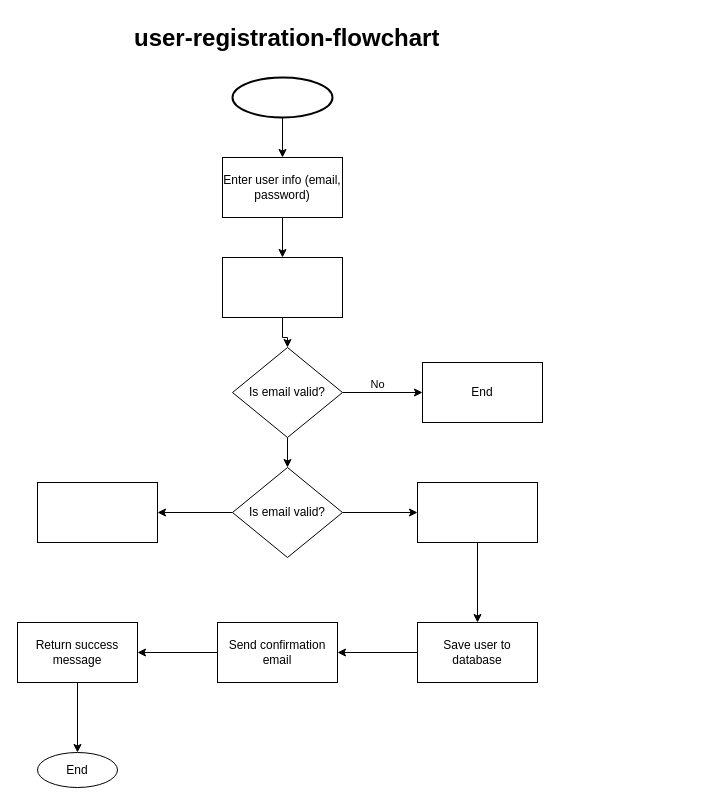
This 720x805 diagram has some shape labels left out. The shapes that lost their labels are listed below. From the top down, each one's centre as x and y in pixels, then its label:
At (x=282, y=97): "Start".
At (x=282, y=287): "Validate input fields".
At (x=97, y=512): "email exists".
At (x=477, y=512): "Hash password".
